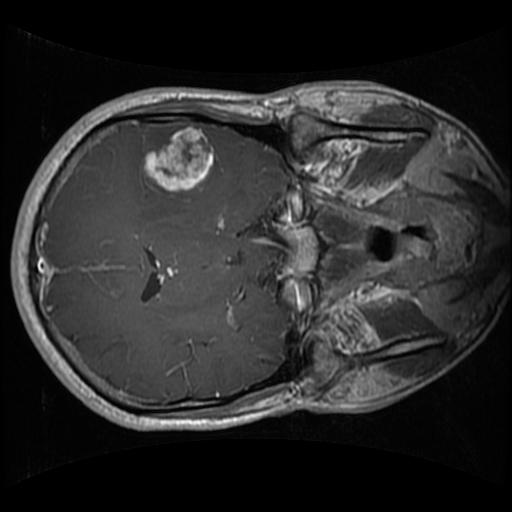glioma: (140, 121, 216, 202)
